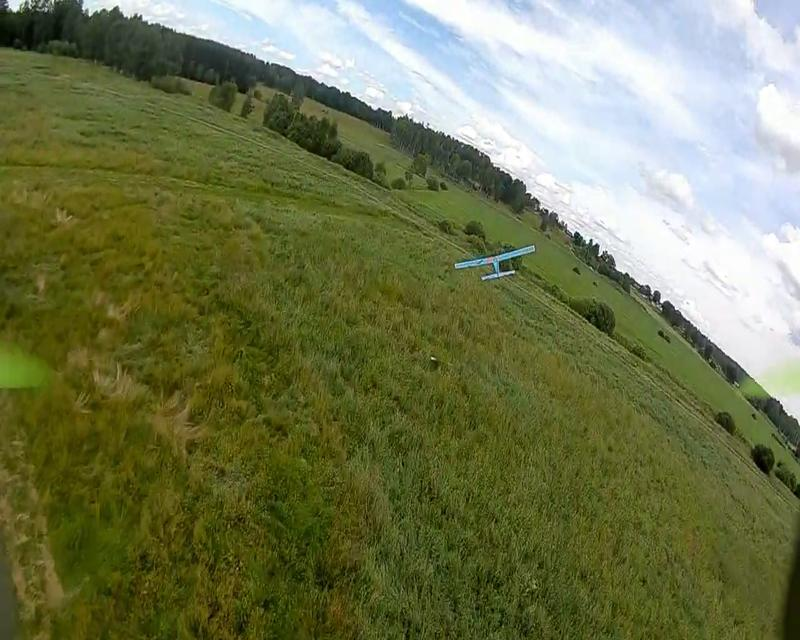UAV: (453, 242, 536, 281)
